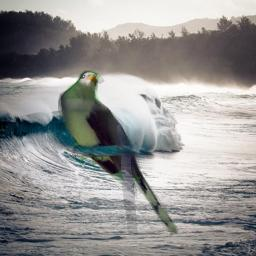Cuckoo: (58, 70, 187, 236)
